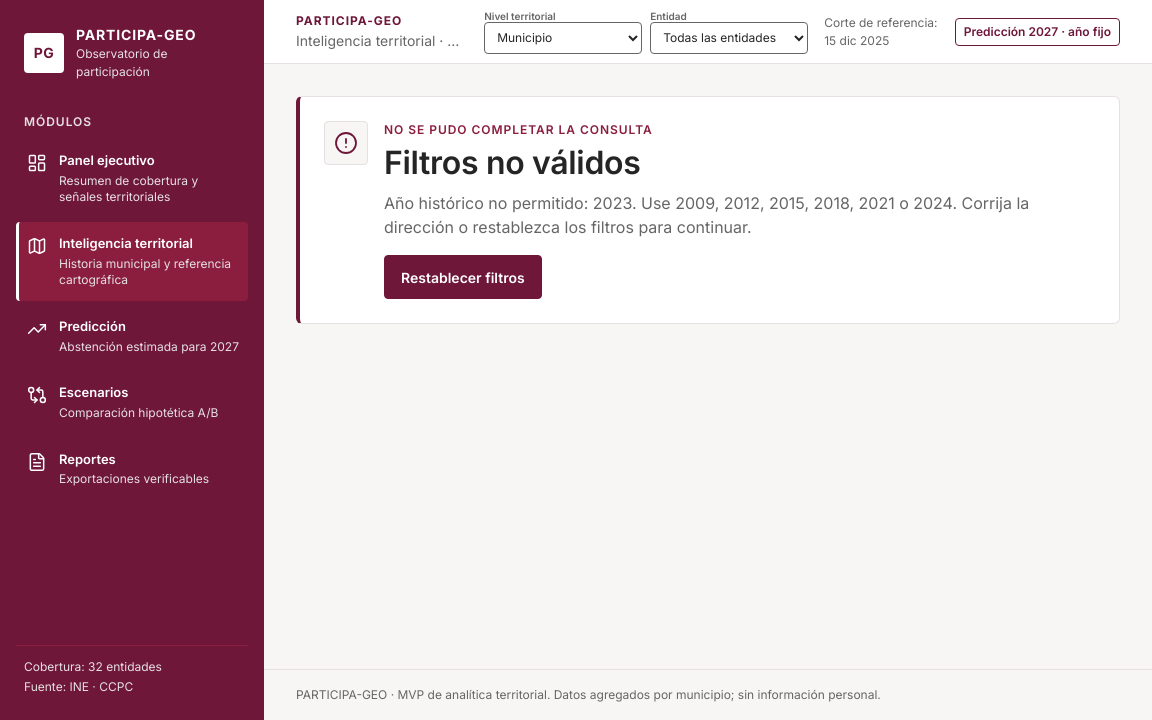
Scenario: ApplicationShell › catches an invalid historical year and offers to reset filters
Expected: the heading "Filtros no válidos" is shown, x1=384 y1=143 x2=640 y2=182
Click the button "Restablecer filtros" at [463, 277], box x1=384 y1=255 x2=542 y2=299
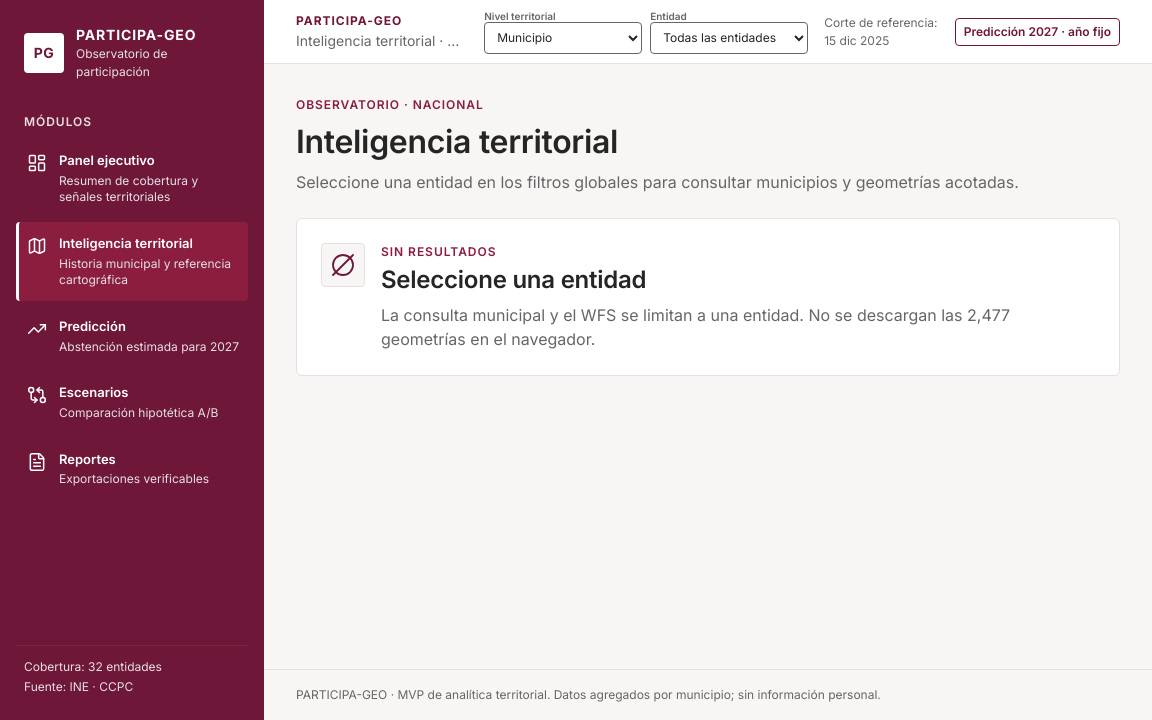
Now the heading "Inteligencia territorial" is shown, box x1=296 y1=122 x2=618 y2=161
